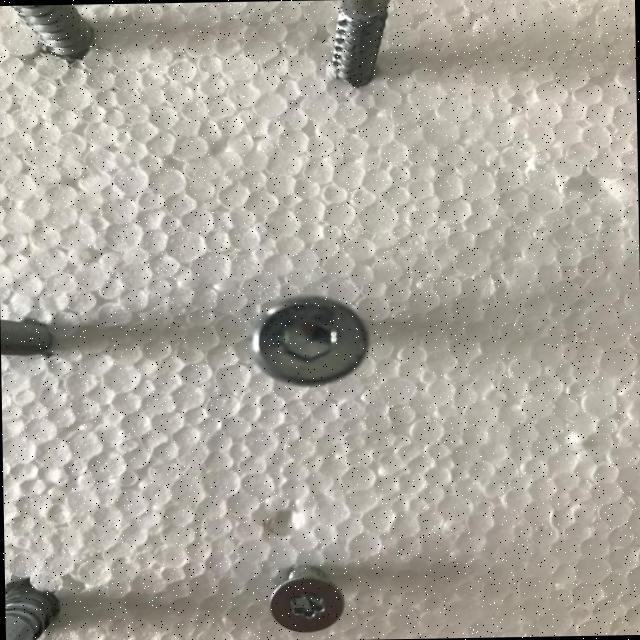Hex Socket Allen: (253, 296, 369, 386)
Torx: (268, 574, 347, 633)
